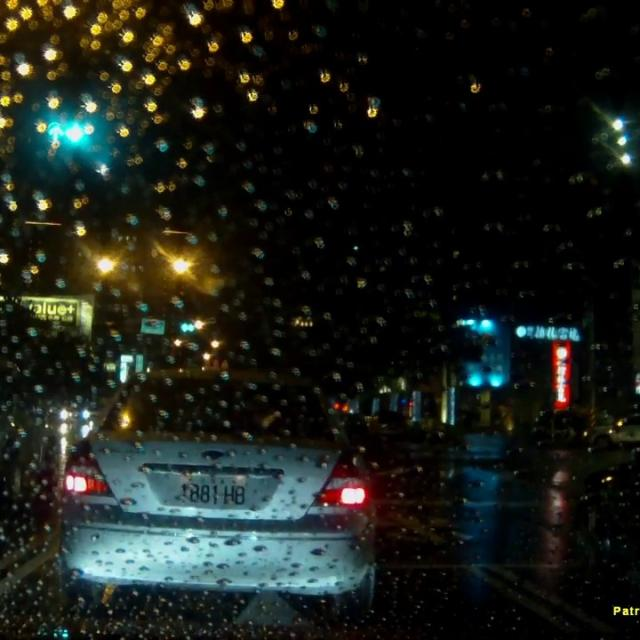Car: (56, 361, 378, 616), (585, 410, 639, 449)
